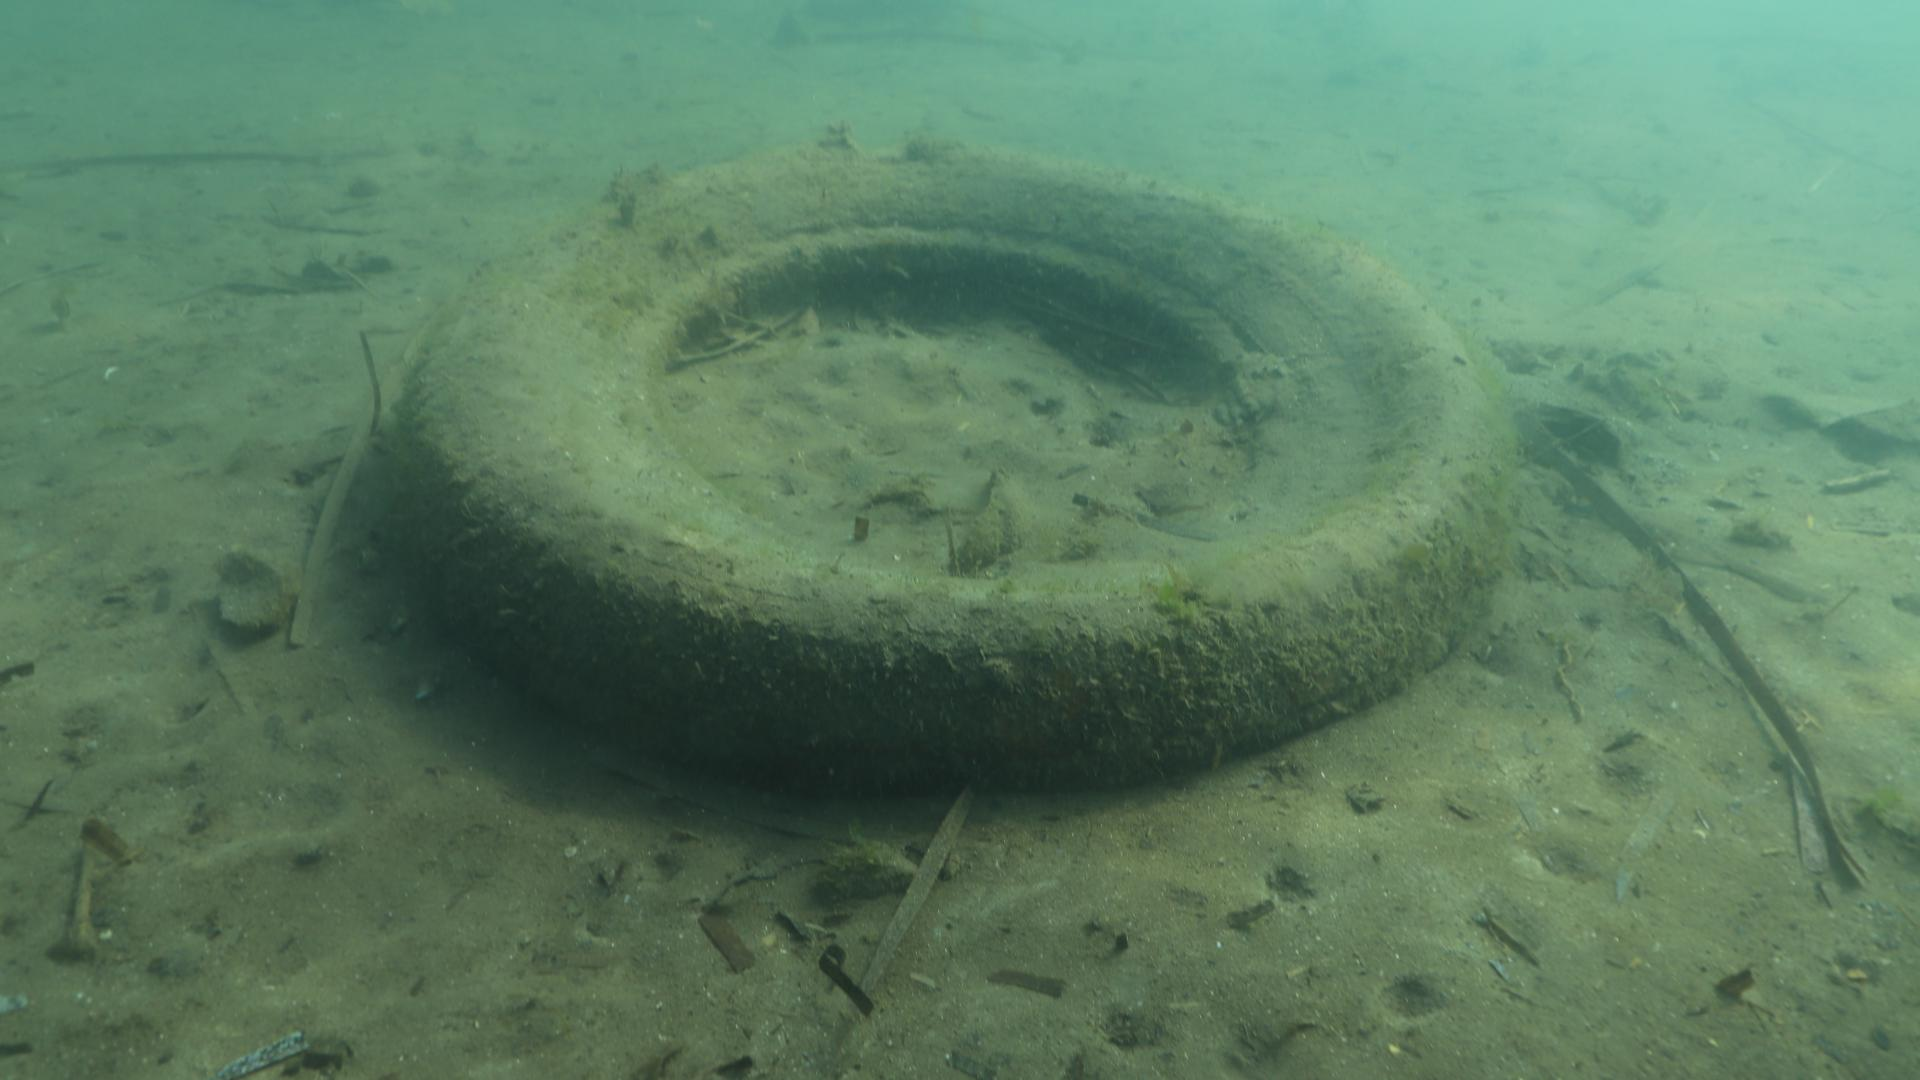tire: (400, 137, 1501, 802)
